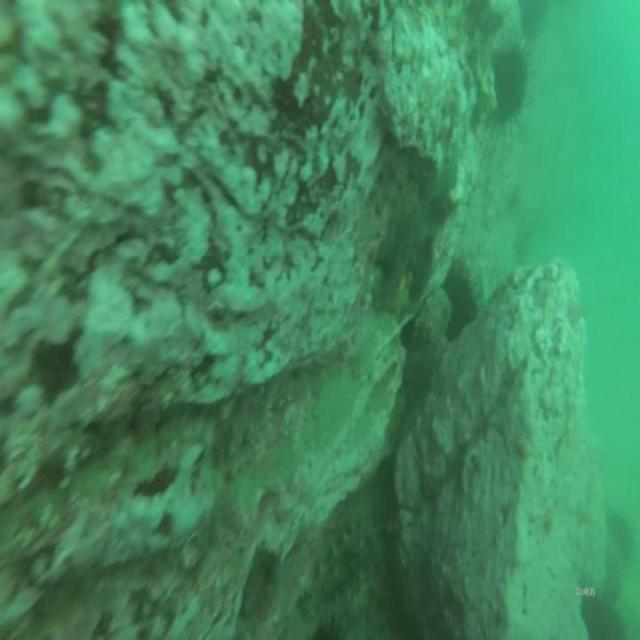echinus: (488, 32, 532, 142), (442, 259, 481, 345), (604, 509, 638, 570), (306, 605, 351, 640)
holothurian: (295, 517, 380, 608)
